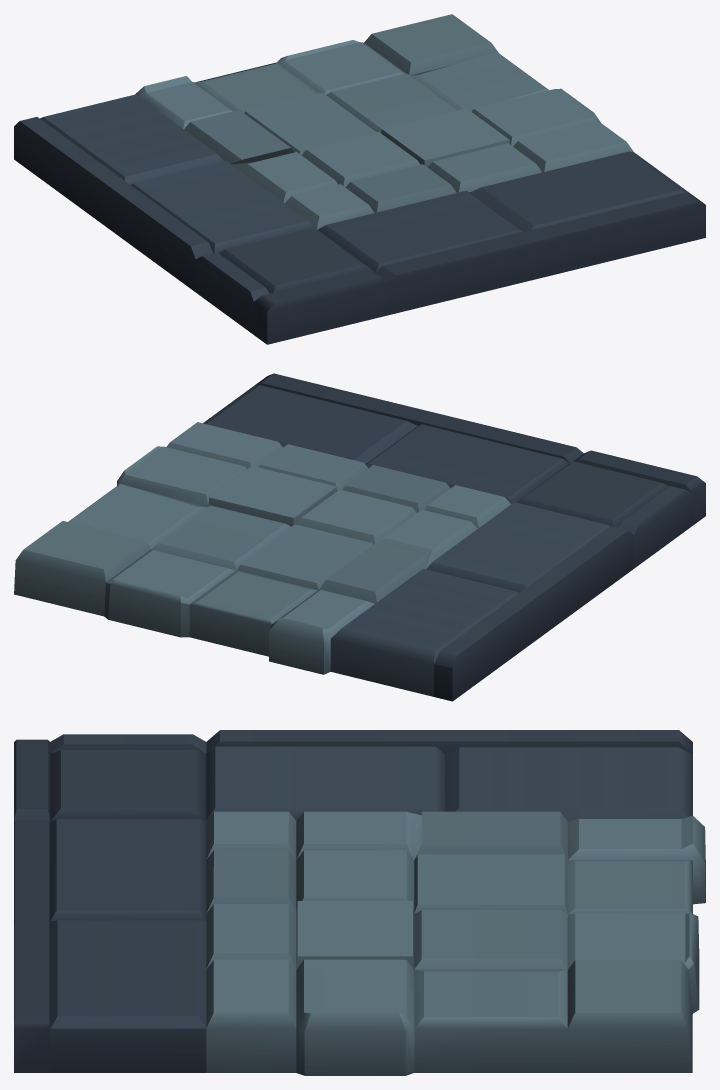
The model's file is Modular_Dungeon_Tile_Uniform_Corner.fbx.
3 views of the same model, one above another, from view 1: azimuth 30°, elevation 25°; view 2: azimuth 150°, elevation 25°; view 3: azimuth 270°, elevation 25° (orthographic). The views are drawn at different scales.
Visible parts, largest first — view 1: Tile_Uniform_Corner; view 2: Tile_Uniform_Corner; view 3: Tile_Uniform_Corner.
Boxes of the visible parts, <box> form: Tile_Uniform_Corner: <box>14,14,705,344</box>; Tile_Uniform_Corner: <box>14,373,705,701</box>; Tile_Uniform_Corner: <box>14,730,705,1075</box>.
Bounding box in the file's own units: 6.33 × 0.6019 × 6.39.
Materials: 1 (1 with a texture image).
